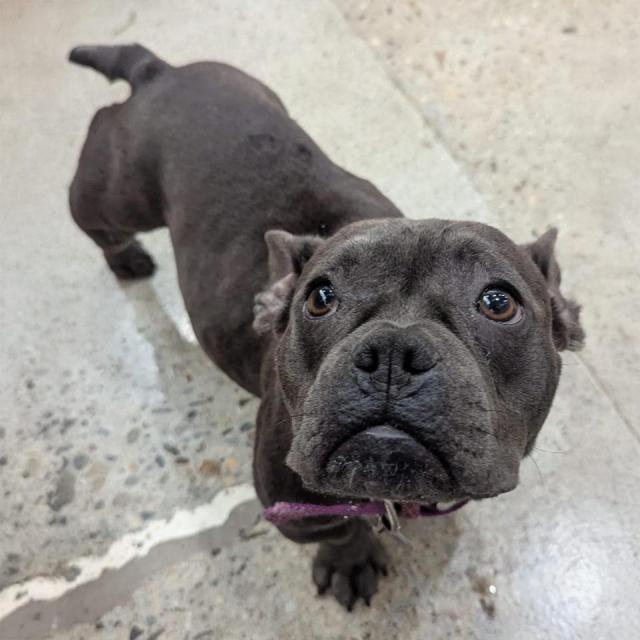french_bulldog_dog: (240, 202, 590, 518)
